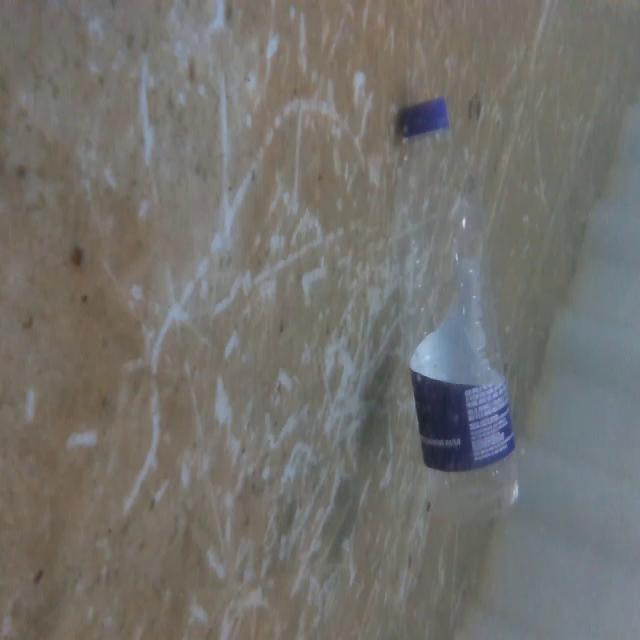plastic bottle: (375, 85, 535, 527)
